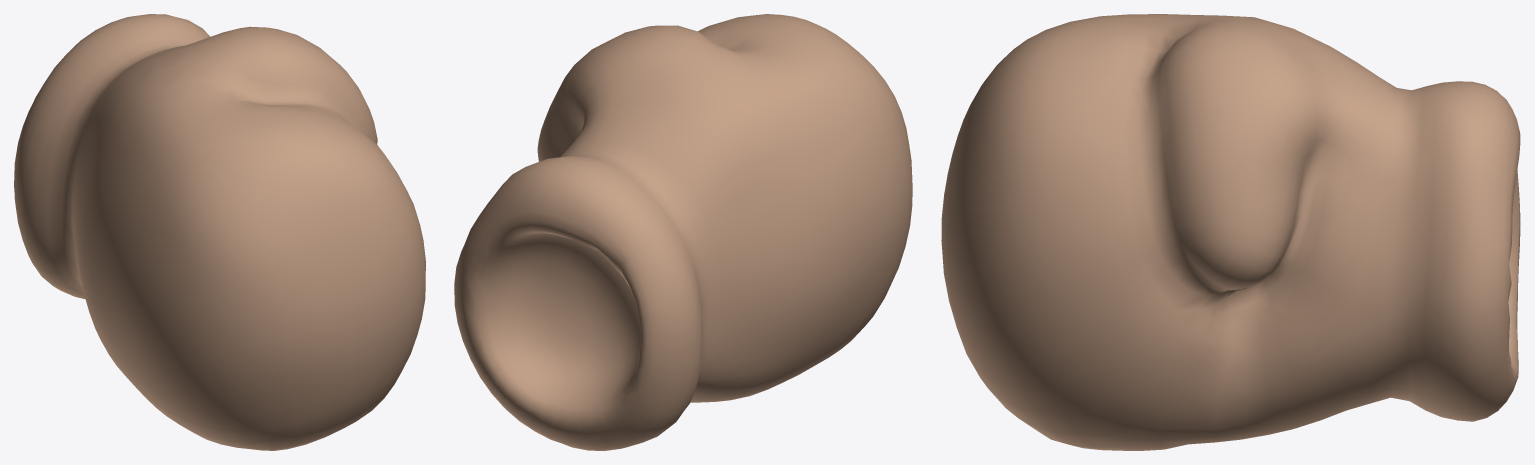
File: PuñoLow.fbx
3 views of the same model, side by side, from view 1: azimuth 30°, elevation 25°; view 2: azimuth 150°, elevation 25°; view 3: azimuth 270°, elevation 25° (orthographic). The views are drawn at different scales.
Visible parts, largest first — view 1: PuñoLow; view 2: PuñoLow; view 3: PuñoLow.
Part boxes in pixels (x1,y1,x2,y2): PuñoLow: [14, 14, 425, 450]; PuñoLow: [454, 14, 912, 450]; PuñoLow: [941, 14, 1520, 450].
Size of the model in its own units: 74.2 by 83.22 by 109.
